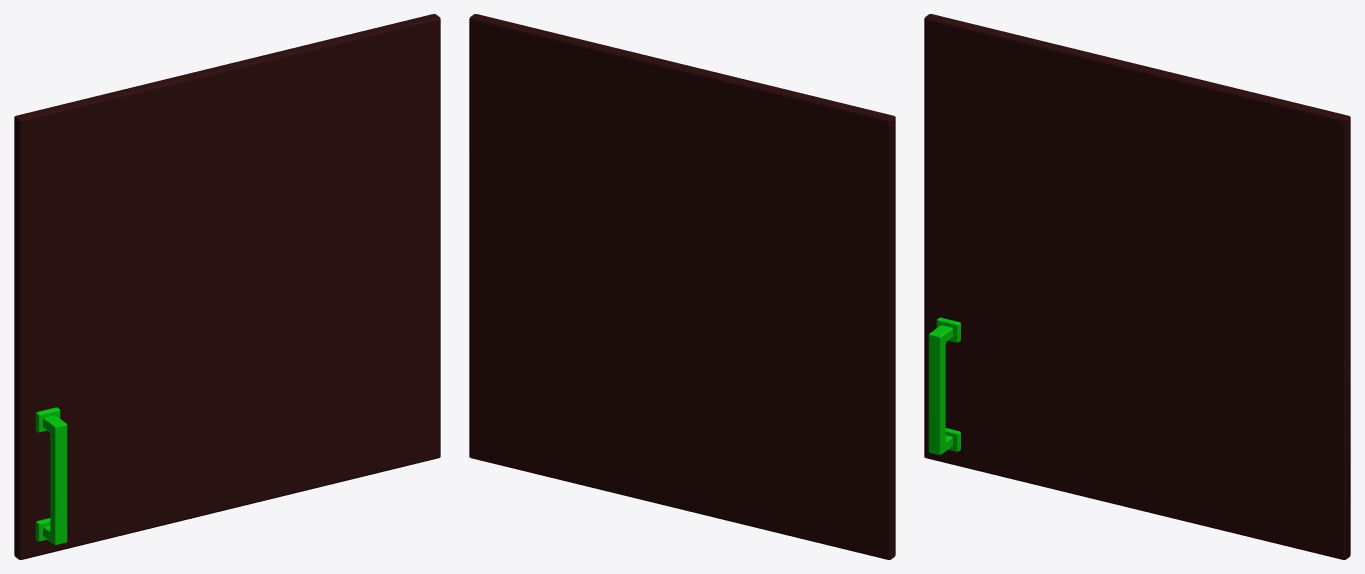
Rendered from kuchnia_02_szafka_wiszaca_drzwi_mirror.fbx.
3 renders of one model, left to right at view 1: azimuth 30°, elevation 25°; view 2: azimuth 150°, elevation 25°; view 3: azimuth 330°, elevation 25°, orthographic.
Visible parts, largest first — view 1: Mesh; view 2: Mesh; view 3: Mesh.
Boxes of the visible parts, x1,y1,x2,y2 form: Mesh: (14, 14, 440, 559); Mesh: (469, 14, 895, 559); Mesh: (924, 14, 1350, 559).
Bounding box in the file's own units: 80 × 79.94 × 7.21.
